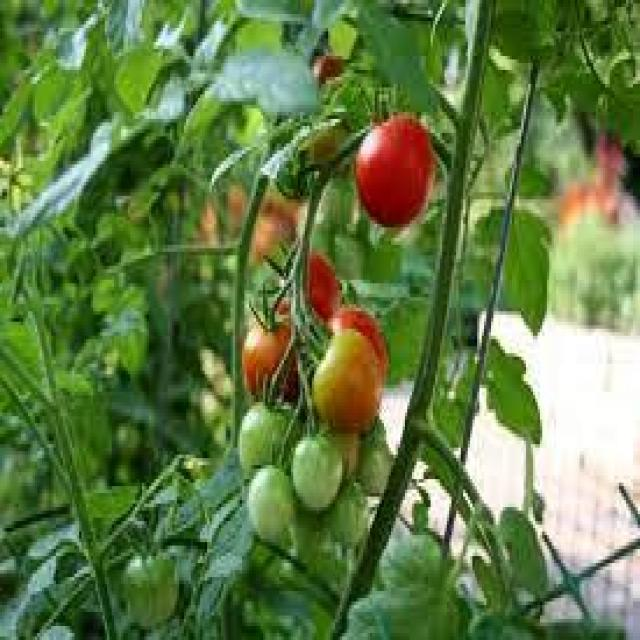Fresh_Tomato: (347, 105, 442, 227), (307, 315, 382, 444), (240, 300, 302, 412)
